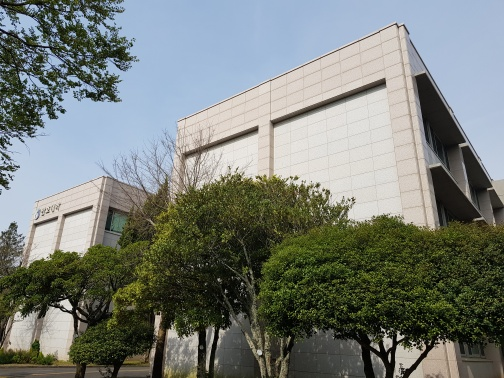College of Nursing: (151, 63, 473, 231), (15, 175, 125, 250)
